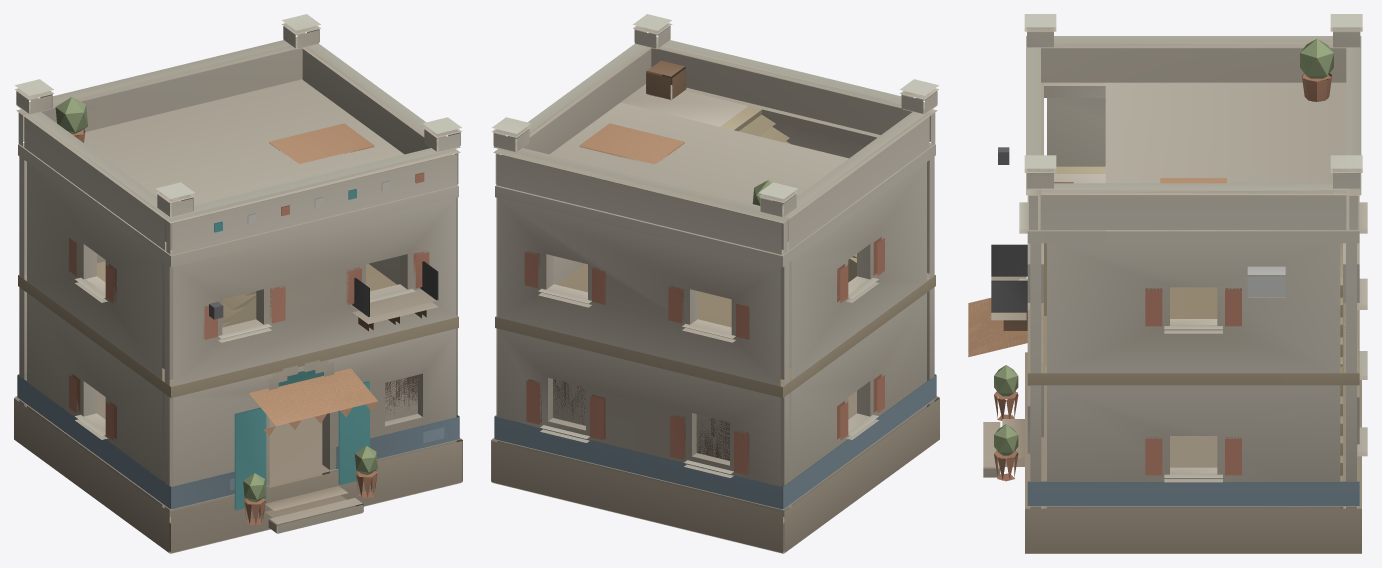
The model's file is house_2.lod.glb.
3 renders of one model, left to right at view 1: azimuth 30°, elevation 25°; view 2: azimuth 150°, elevation 25°; view 3: azimuth 270°, elevation 25°, orthographic. The views are drawn at different scales.
Visible parts, largest first — view 1: house_2; view 2: house_2; view 3: house_2.
Part boxes in pixels (left/top/right/bottom): house_2: left=14, top=14, right=462, bottom=553; house_2: left=491, top=14, right=939, bottom=553; house_2: left=968, top=14, right=1367, bottom=553.
Bounding box in the file's own units: 8.23 × 8.96 × 8.42.
